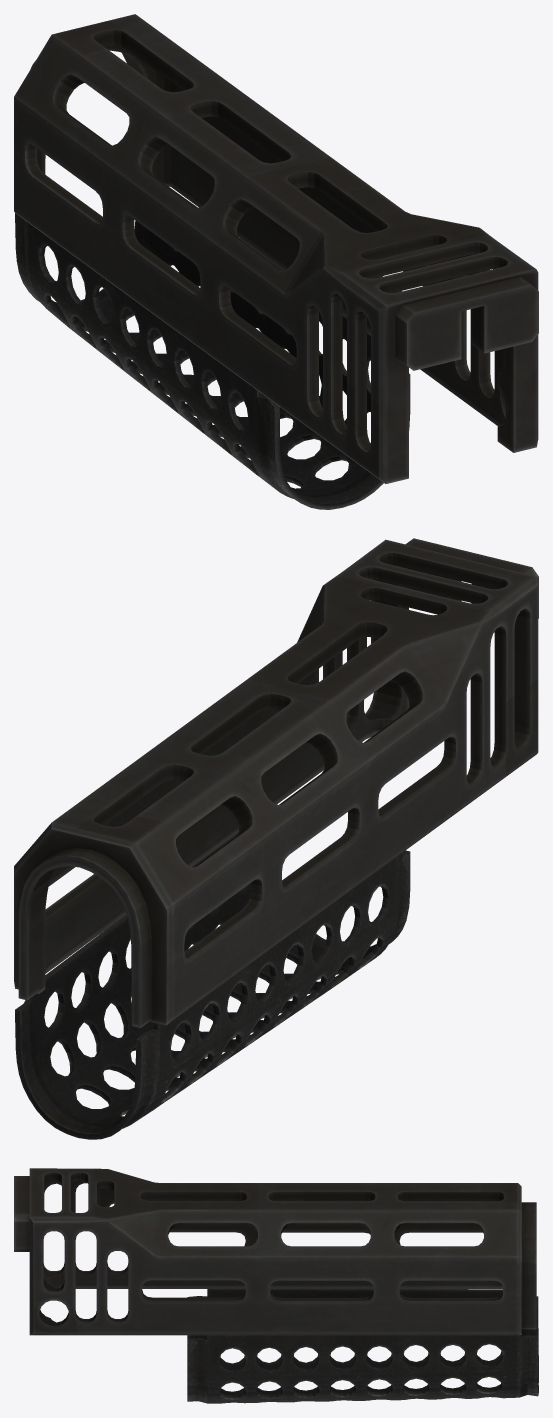
3 views of the same model, one above another, from view 1: azimuth 30°, elevation 25°; view 2: azimuth 150°, elevation 25°; view 3: azimuth 270°, elevation 25° (orthographic). The views are drawn at different scales.
Visible parts, largest first — view 1: TW_5d1b198cd7ad1a604869ad72_PZ_Import; view 2: TW_5d1b198cd7ad1a604869ad72_PZ_Import; view 3: TW_5d1b198cd7ad1a604869ad72_PZ_Import.
Part boxes in pixels (left/top/right/bottom): TW_5d1b198cd7ad1a604869ad72_PZ_Import: left=14, top=14, right=538, bottom=509; TW_5d1b198cd7ad1a604869ad72_PZ_Import: left=14, top=538, right=538, bottom=1139; TW_5d1b198cd7ad1a604869ad72_PZ_Import: left=14, top=1168, right=538, bottom=1403.
Size of the model in its own units: 0.0221 by 0.0949 by 0.041.
Materials: 1 (1 with a texture image).
